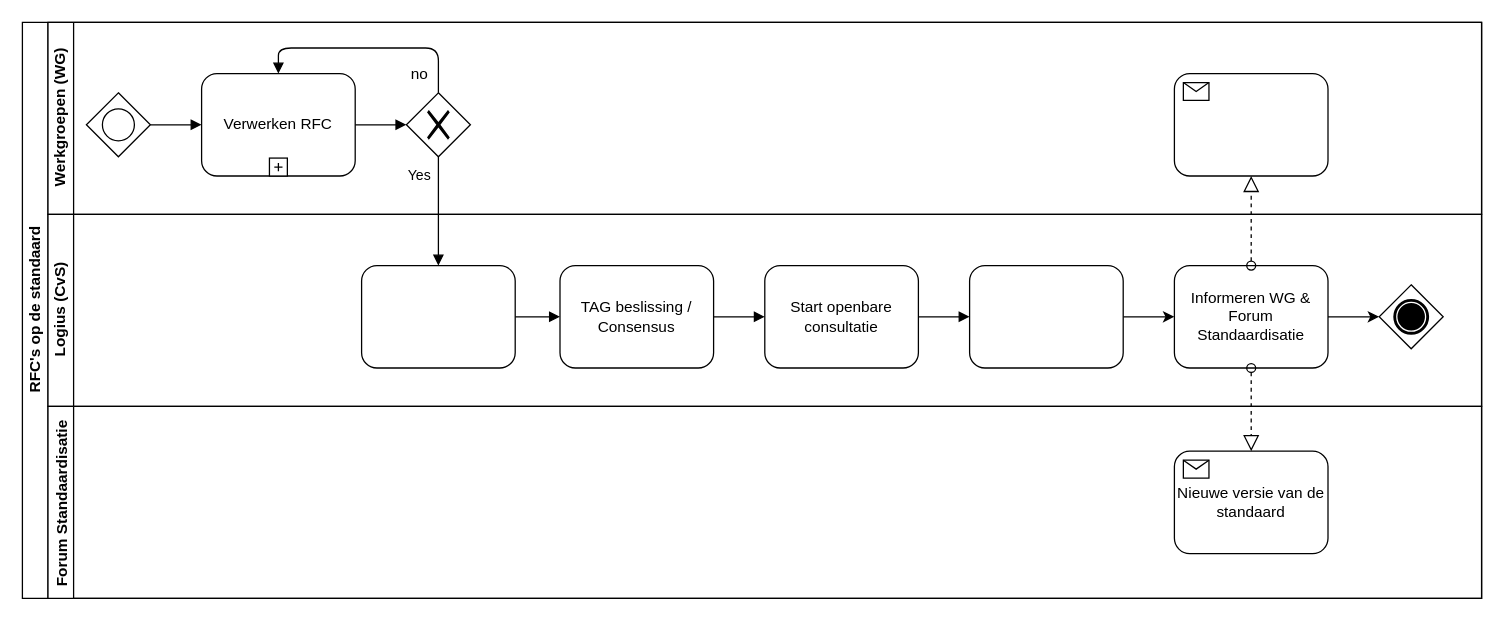
The diagram is 1504 pixels wide and 621 high, and some of its shapes have lost their labels. Each missing label, with the centre of its shape:
"Is de RFC gereed voor publieke beoordeling?" goes at point 437,124.
"Verwerkte RFC" goes at point 1250,124.
"Voorstel in TAG" goes at point 437,316.
"Wijzigen standaard document en ophogen versie" goes at point 1045,316.
